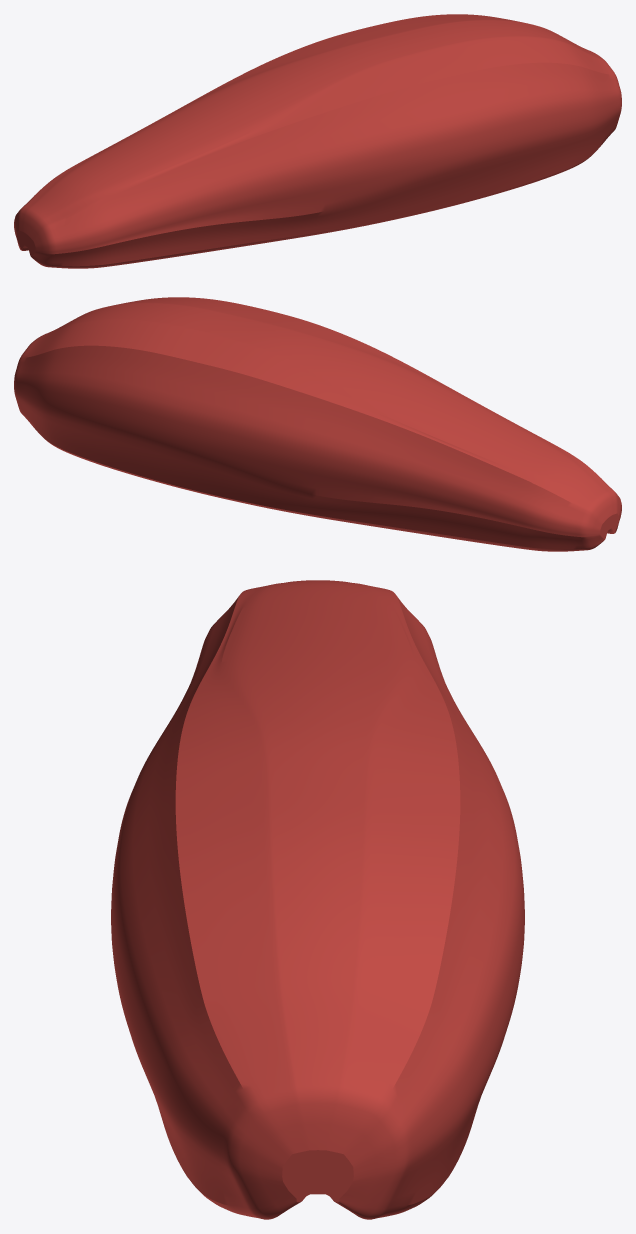
Rendered from cruiser_2.glb.
3 views of the same model, one above another, from view 1: azimuth 30°, elevation 25°; view 2: azimuth 150°, elevation 25°; view 3: azimuth 270°, elevation 25° (orthographic). The views are drawn at different scales.
Visible parts, largest first — view 1: cruiser_2; view 2: cruiser_2; view 3: cruiser_2.
Part boxes in pixels (x1,y1,x2,y2): cruiser_2: [14, 14, 621, 268]; cruiser_2: [14, 297, 621, 551]; cruiser_2: [111, 580, 524, 1219].
Size of the model in its own units: 1.06 by 0.2487 by 0.3284.
